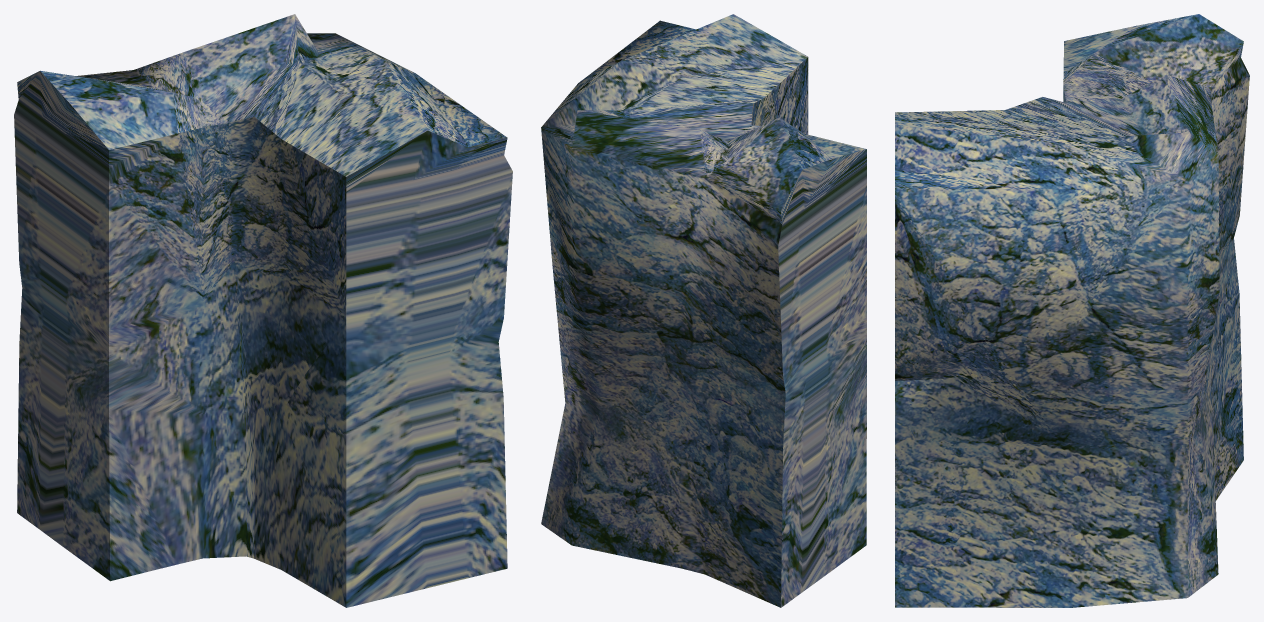
File: rockWall_right_convex.fbx
3 renders of one model, left to right at view 1: azimuth 30°, elevation 25°; view 2: azimuth 150°, elevation 25°; view 3: azimuth 270°, elevation 25°, orthographic. The views are drawn at different scales.
Parts seen in each view (by area): view 1: pPlane10; view 2: pPlane10; view 3: pPlane10.
Part boxes in pixels (box(x1,y1,x2,y2)): pPlane10: box(14, 14, 512, 607); pPlane10: box(541, 14, 866, 607); pPlane10: box(895, 14, 1249, 607).
Size of the model in its own units: 8.57 by 8.45 by 11.79.
